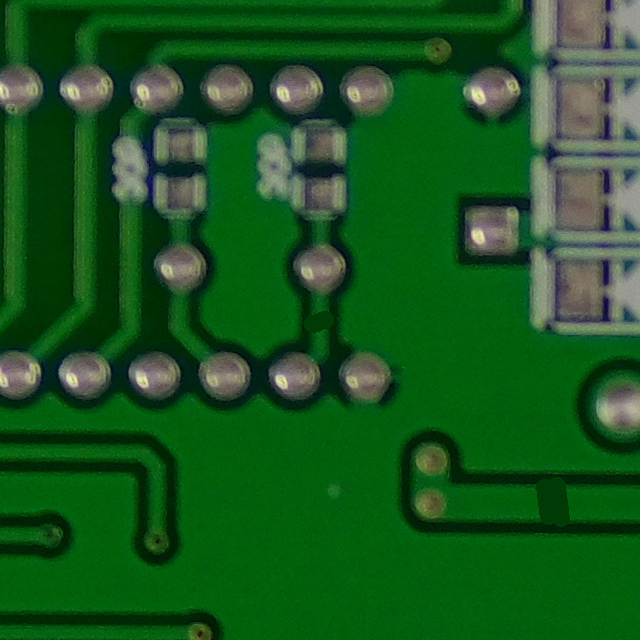open_circuit: (517, 475, 589, 529), (303, 298, 337, 342)
